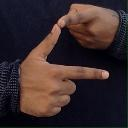hand: (18, 23, 109, 117), (56, 3, 119, 49)
